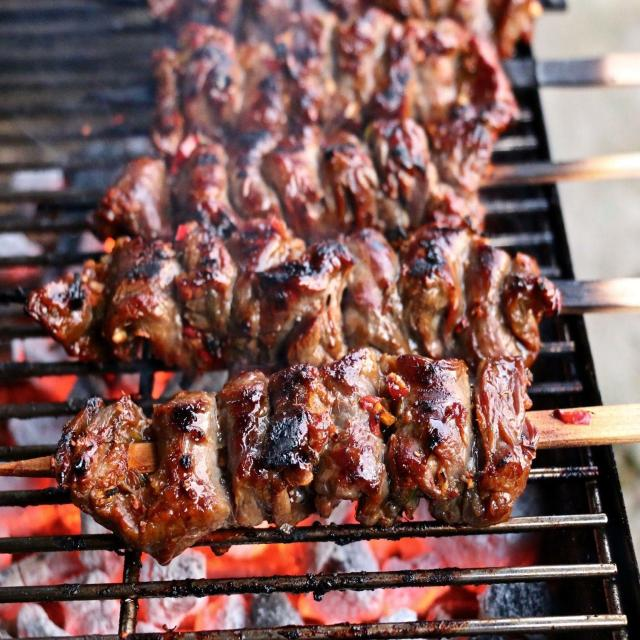Sate: (6, 7, 640, 640)
